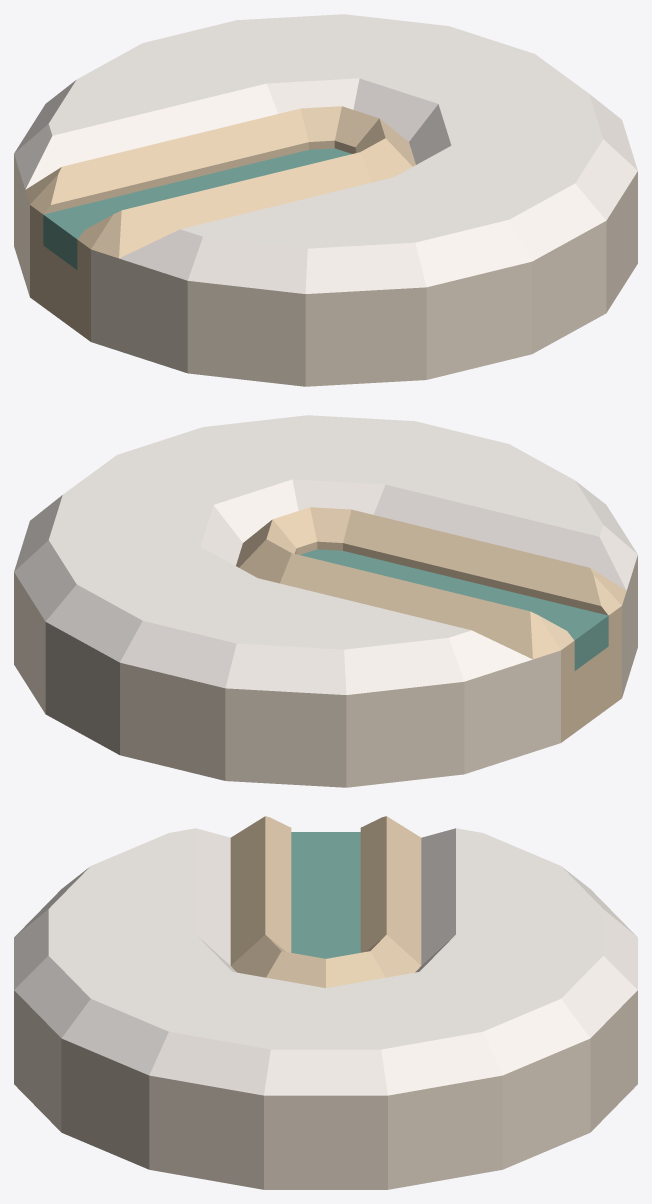
File: Puzzle_Floor_Conduit_Rotating_Platform_End.glb
The picture shows the model from 3 angles, top to bottom: view 1: azimuth 30°, elevation 25°; view 2: azimuth 150°, elevation 25°; view 3: azimuth 270°, elevation 25°; orthographic projection.
Parts seen in each view (by area): view 1: Puzzle_Floor_Conduit_Rotating_Platform_End; view 2: Puzzle_Floor_Conduit_Rotating_Platform_End; view 3: Puzzle_Floor_Conduit_Rotating_Platform_End.
Part boxes in pixels (x1,y1,x2,y2): Puzzle_Floor_Conduit_Rotating_Platform_End: (14,14,637,386); Puzzle_Floor_Conduit_Rotating_Platform_End: (14,415,637,787); Puzzle_Floor_Conduit_Rotating_Platform_End: (14,816,637,1189).
Size of the model in its own units: 0.9 by 0.2 by 0.9.
